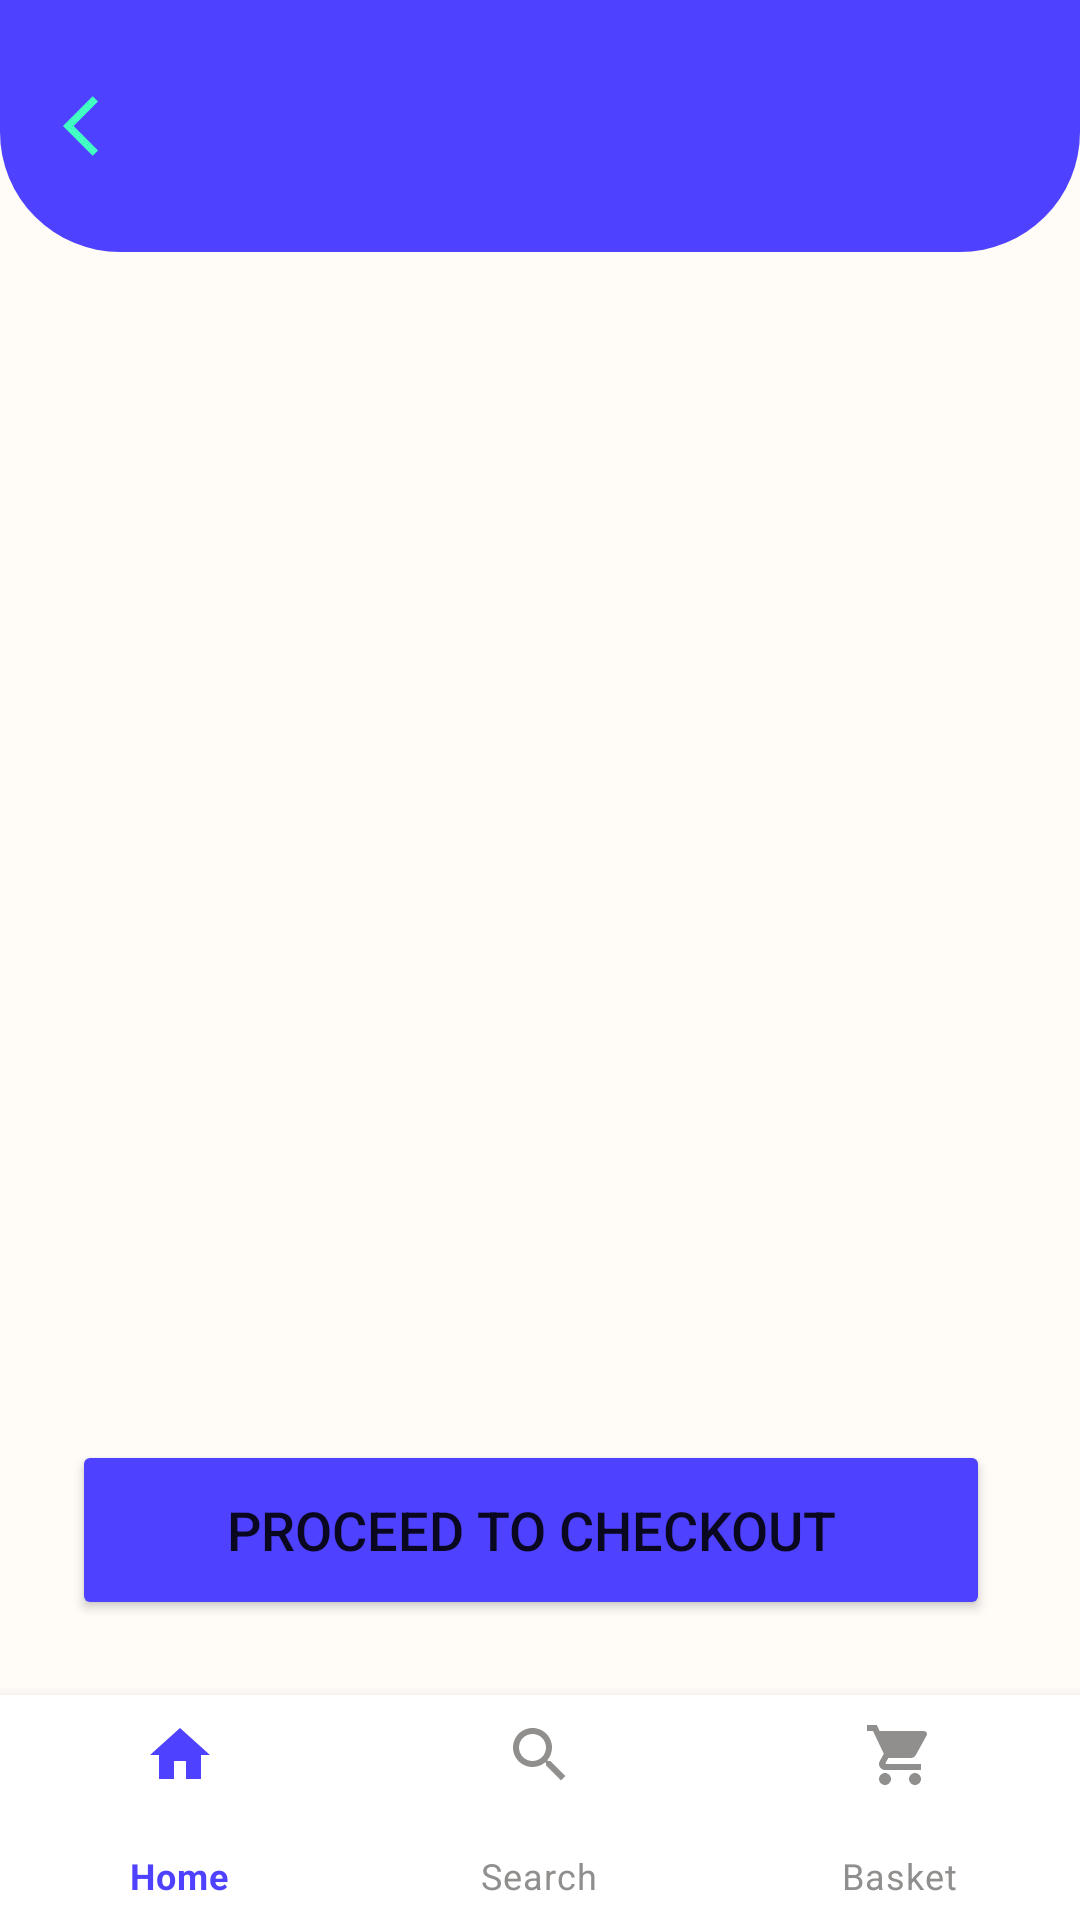

Where to tap for icons on this 1080px×1920px app screen, as (x=x, y=y):
arrow back: (x=80, y=126)
